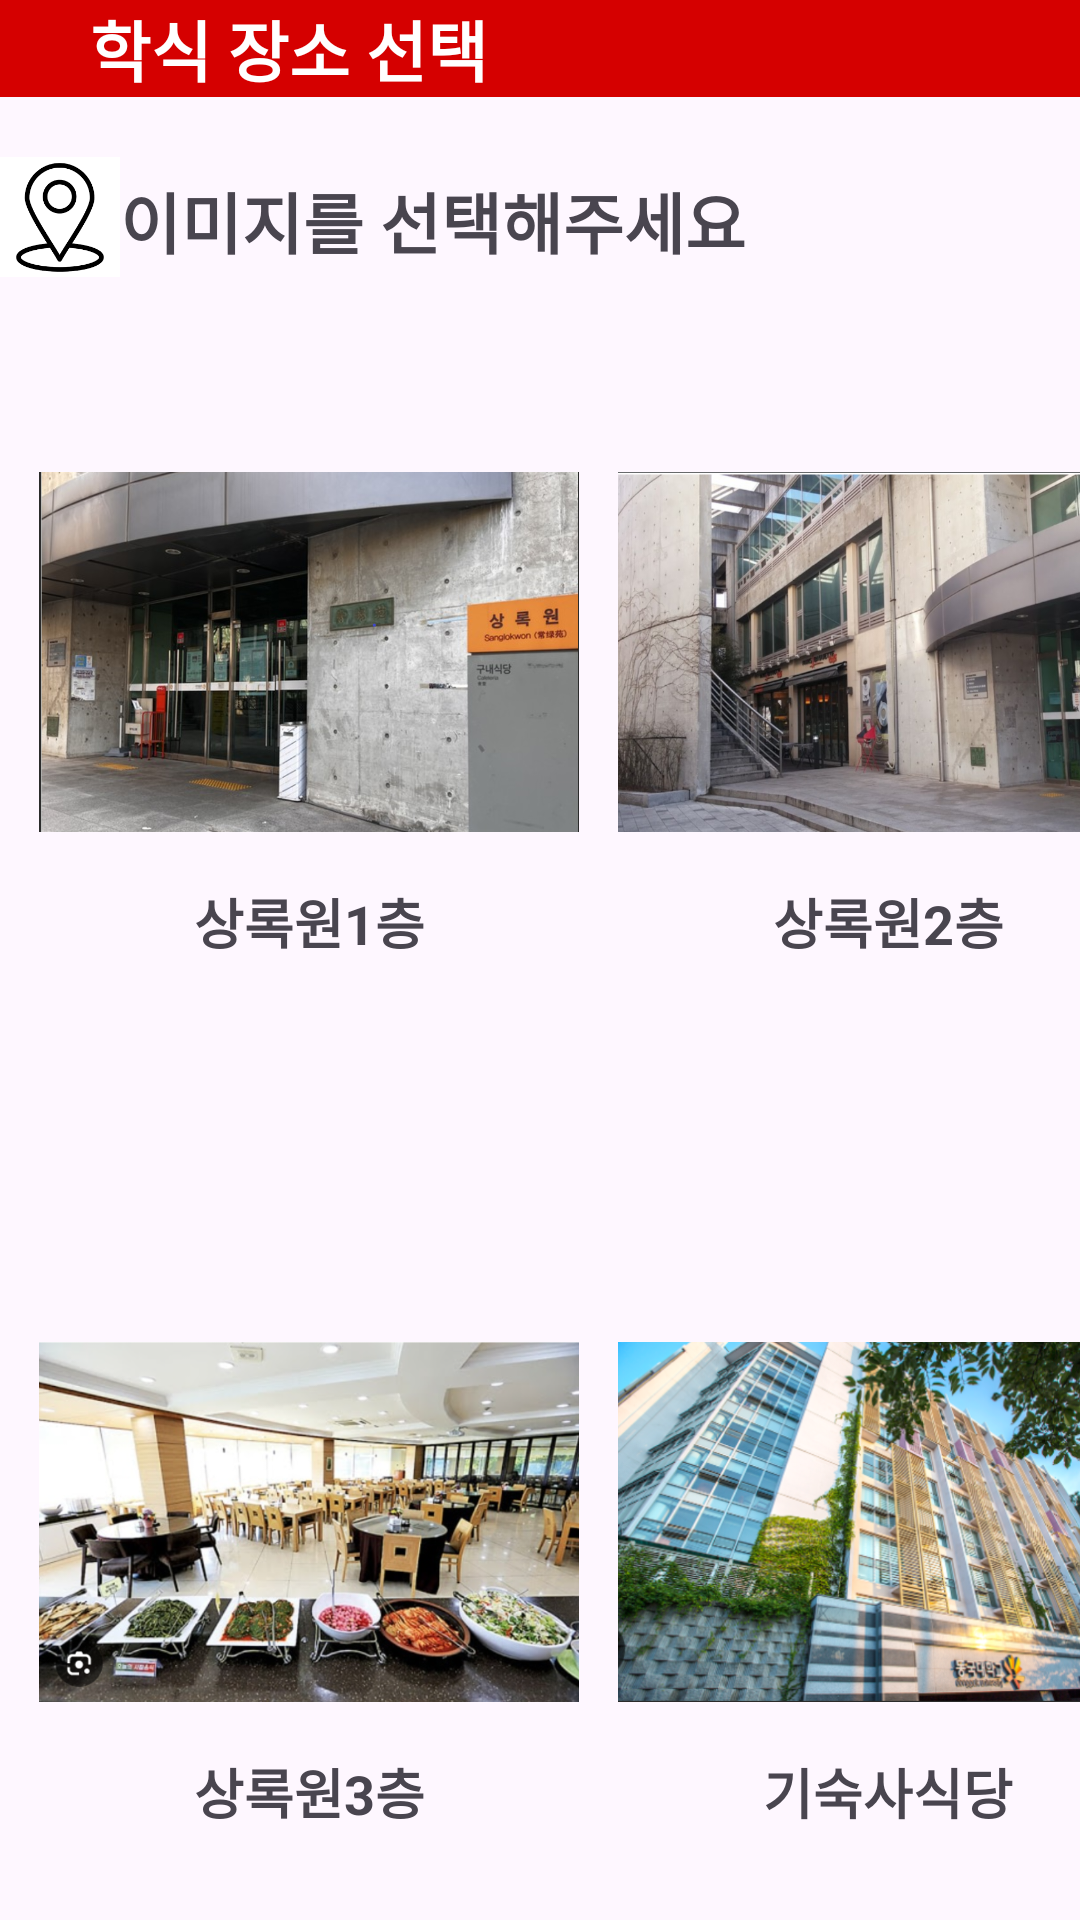

Locate icon controls on the screen. Image size 1080*1920, boxes as (x1,y1,x2,y2).
locate: (16,163,104,272)
